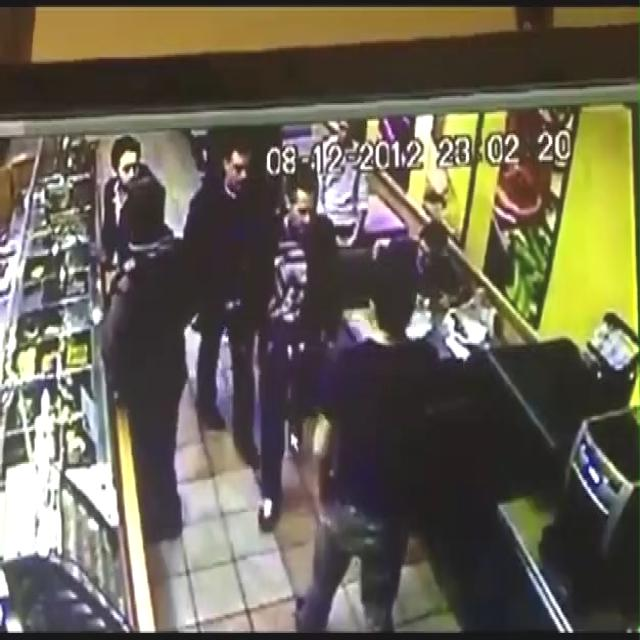fight: (256, 164, 433, 638)
